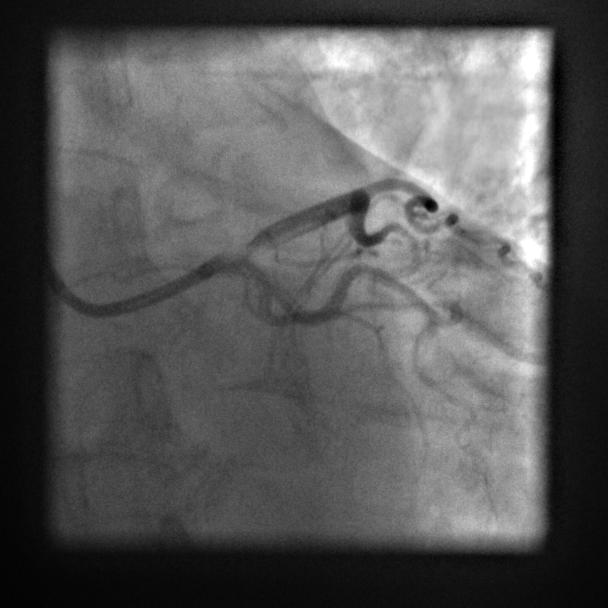Stenosis: (227, 236, 267, 262)
